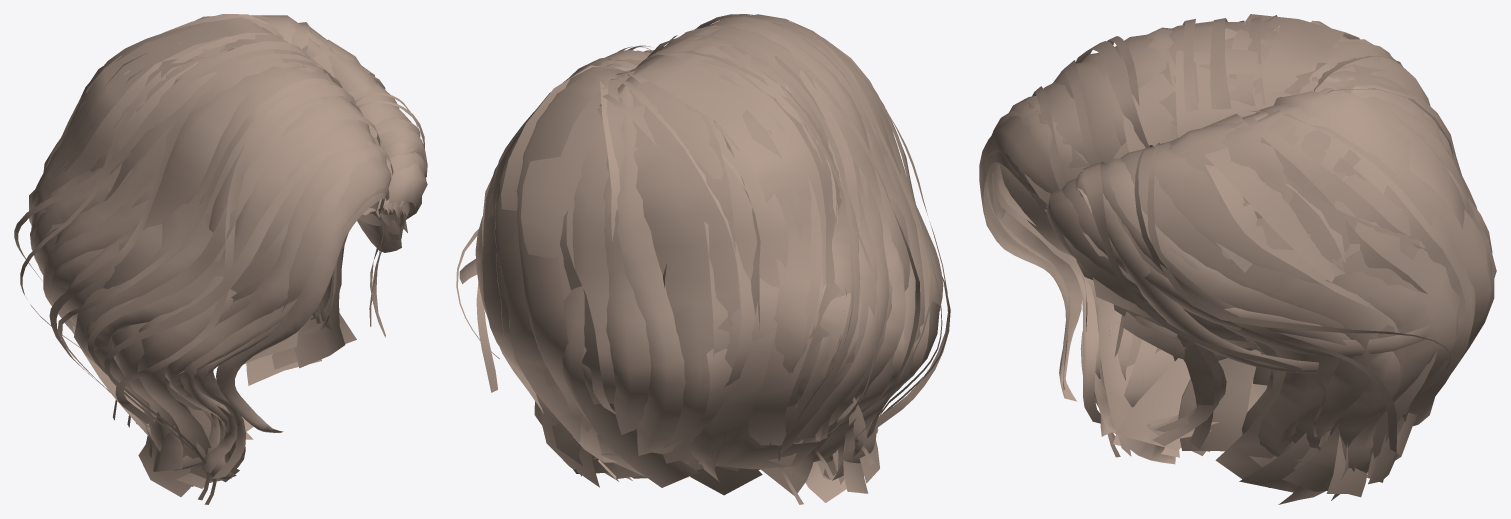
Rendered from female_hair_04_lod0.glb.
The picture shows the model from 3 angles, left to right: view 1: azimuth 30°, elevation 25°; view 2: azimuth 150°, elevation 25°; view 3: azimuth 270°, elevation 25°; orthographic projection. The views are drawn at different scales.
Parts seen in each view (by area): view 1: female-hair-04; view 2: female-hair-04; view 3: female-hair-04.
Part boxes in pixels (left/top/right/bottom): female-hair-04: left=14, top=14, right=427, bottom=504; female-hair-04: left=456, top=14, right=950, bottom=504; female-hair-04: left=979, top=14, right=1496, bottom=504.
Bounding box in the file's own units: 0.2262 × 0.2516 × 0.2478.
